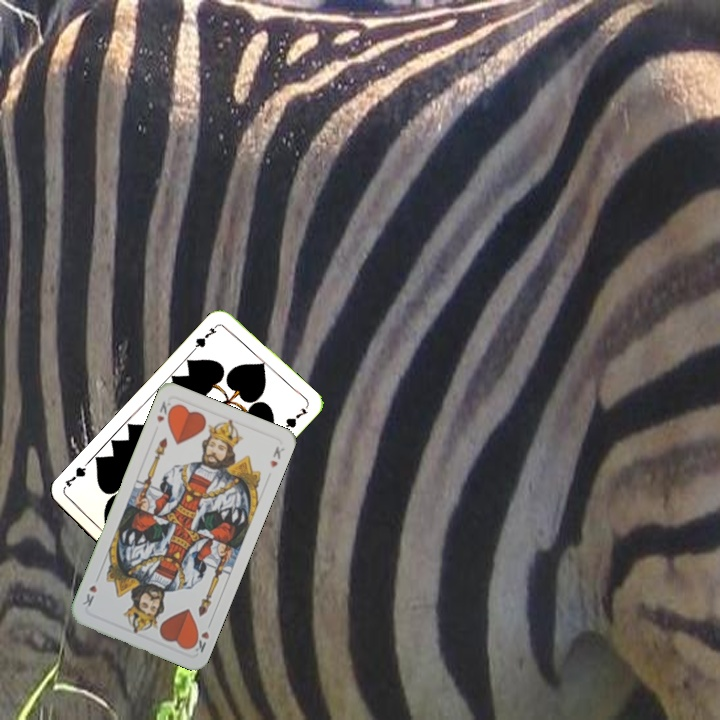G7: (189, 321, 221, 353)
HK: (187, 624, 212, 656), (152, 397, 176, 425)
